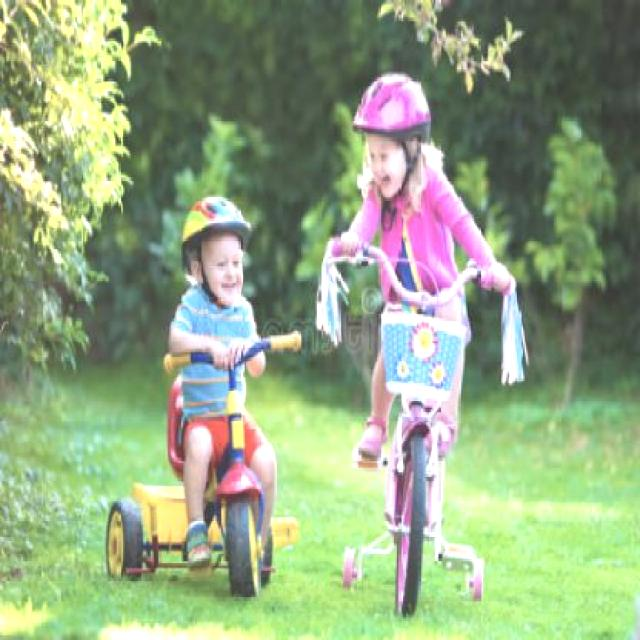With Helmet: (348, 64, 443, 204), (178, 196, 257, 315)
